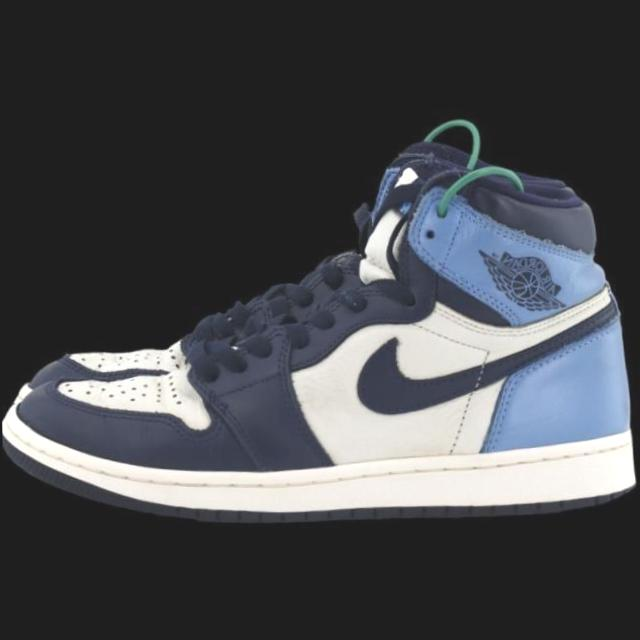nike_original_jordan: (0, 133, 640, 537), (0, 126, 602, 420)
